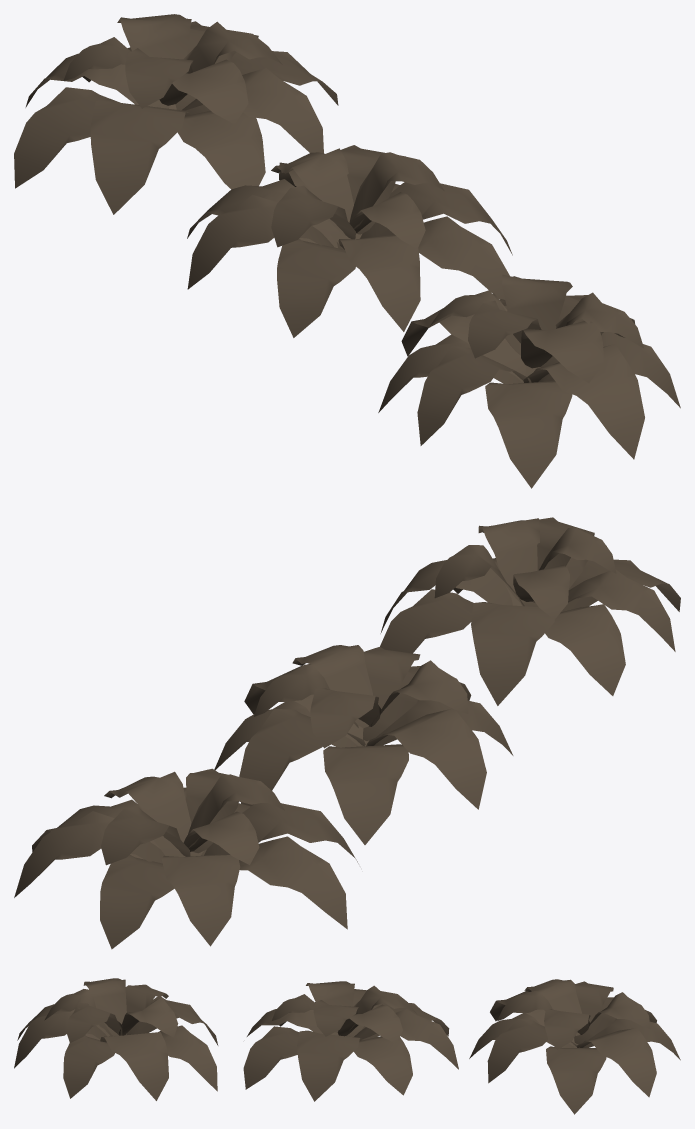
The model's file is croton_b.glb.
3 renders of one model, top to bottom at view 1: azimuth 30°, elevation 25°; view 2: azimuth 150°, elevation 25°; view 3: azimuth 270°, elevation 25°, orthographic. The views are drawn at different scales.
Visible parts, largest first — view 1: Croton_Leaves_w; view 2: Croton_Leaves_w; view 3: Croton_Leaves_w.
Part boxes in pixels (x1,y1,x2,y2): Croton_Leaves_w: [14, 14, 680, 488]; Croton_Leaves_w: [14, 517, 680, 949]; Croton_Leaves_w: [14, 978, 680, 1114].
Size of the model in its own units: 2.99 by 1 by 8.25.
Materials: 1 (1 with a texture image).
